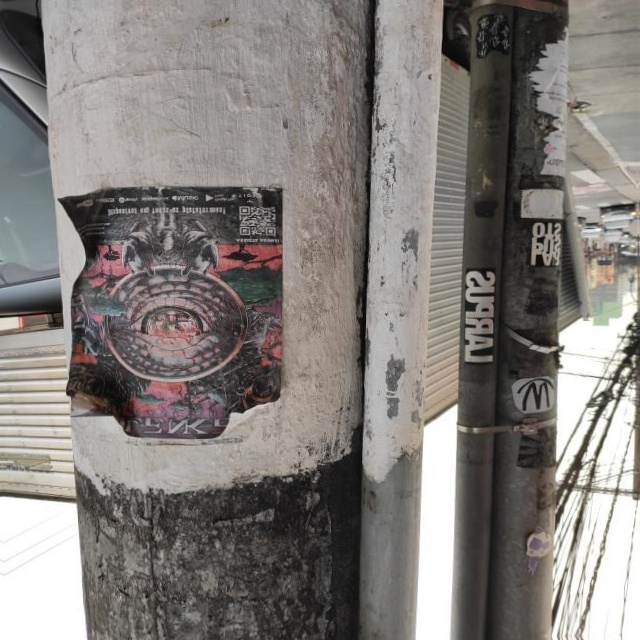qr-code: (239, 206, 276, 236)
